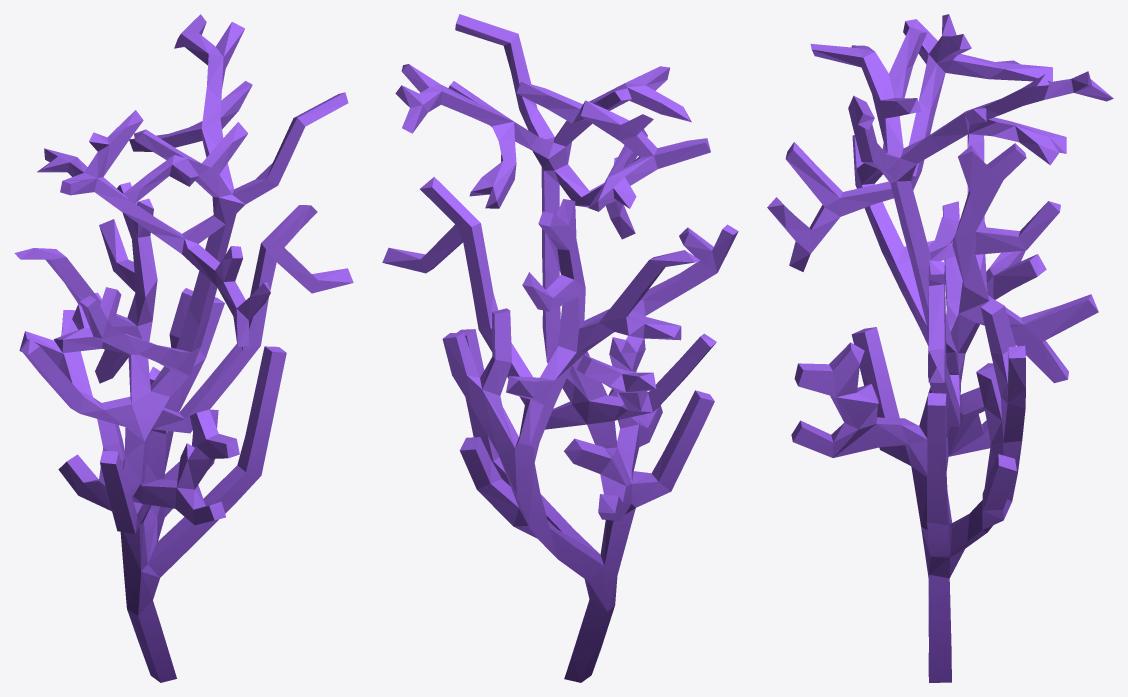
File: SM_Coral_7.fbx
3 renders of one model, left to right at view 1: azimuth 30°, elevation 25°; view 2: azimuth 150°, elevation 25°; view 3: azimuth 270°, elevation 25°, orthographic. The views are drawn at different scales.
Parts seen in each view (by area): view 1: Coral_7; view 2: Coral_7; view 3: Coral_7.
Boxes of the visible parts, left/top/right/bottom form: Coral_7: left=14, top=14, right=353, bottom=682; Coral_7: left=382, top=14, right=738, bottom=682; Coral_7: left=767, top=14, right=1113, bottom=682.
Size of the model in its own units: 108 by 191 by 89.75.
